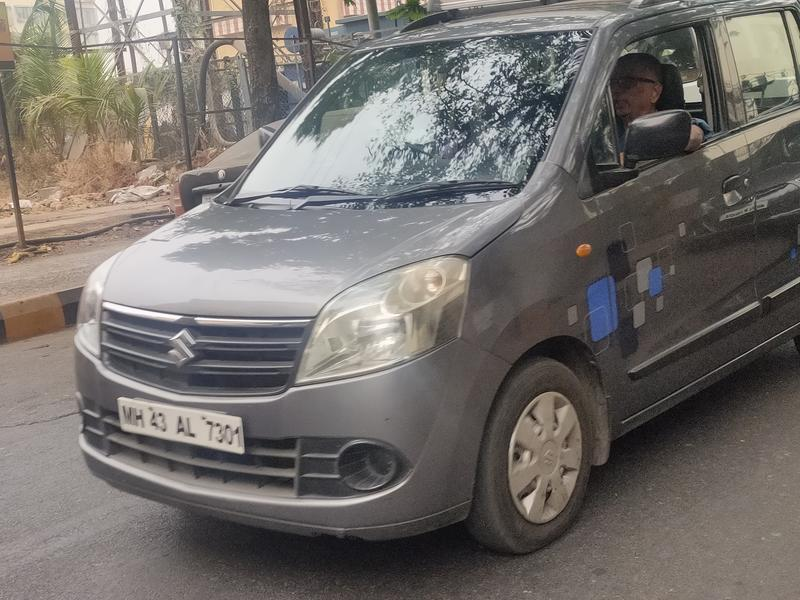license_plate: (109, 394, 267, 466)
